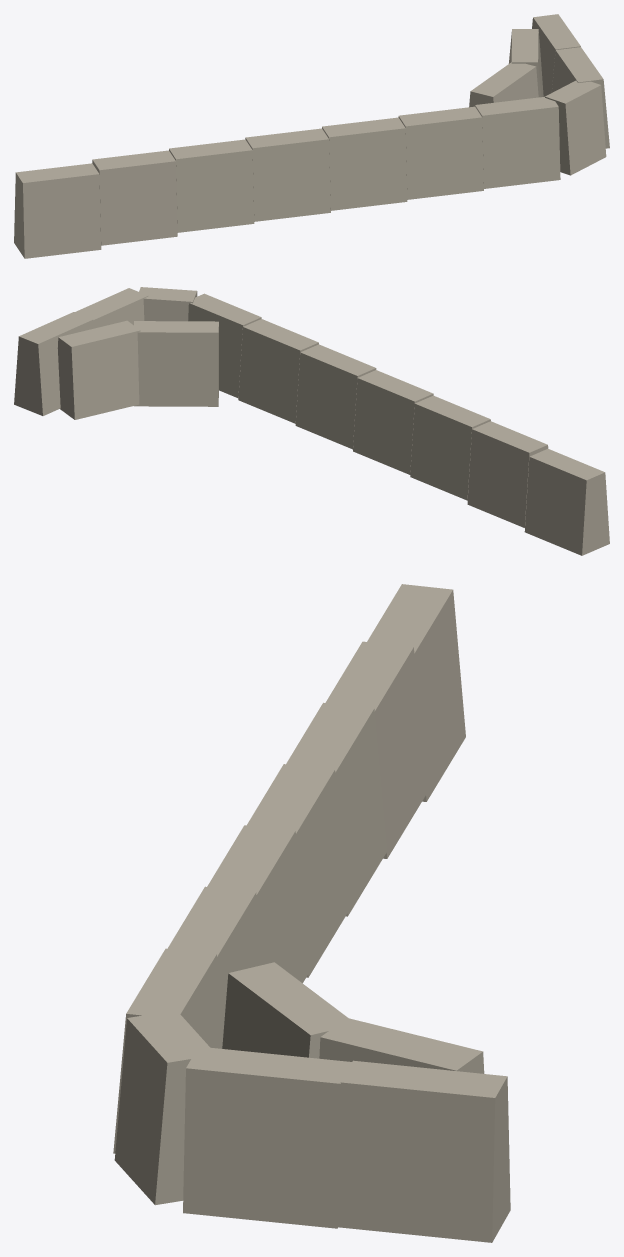
Rendered from bormla_63_33_far.glb.
3 renders of one model, top to bottom at view 1: azimuth 30°, elevation 25°; view 2: azimuth 150°, elevation 25°; view 3: azimuth 270°, elevation 25°, orthographic. The views are drawn at different scales.
Visible parts, largest first — view 1: geometry_0; view 2: geometry_0; view 3: geometry_0.
Part boxes in pixels (x1,y1,x2,y2): geometry_0: (14,14,609,258); geometry_0: (14,287,609,555); geometry_0: (113,584,510,1242).
Size of the model in its own units: 98.7 by 14.79 by 30.02.
